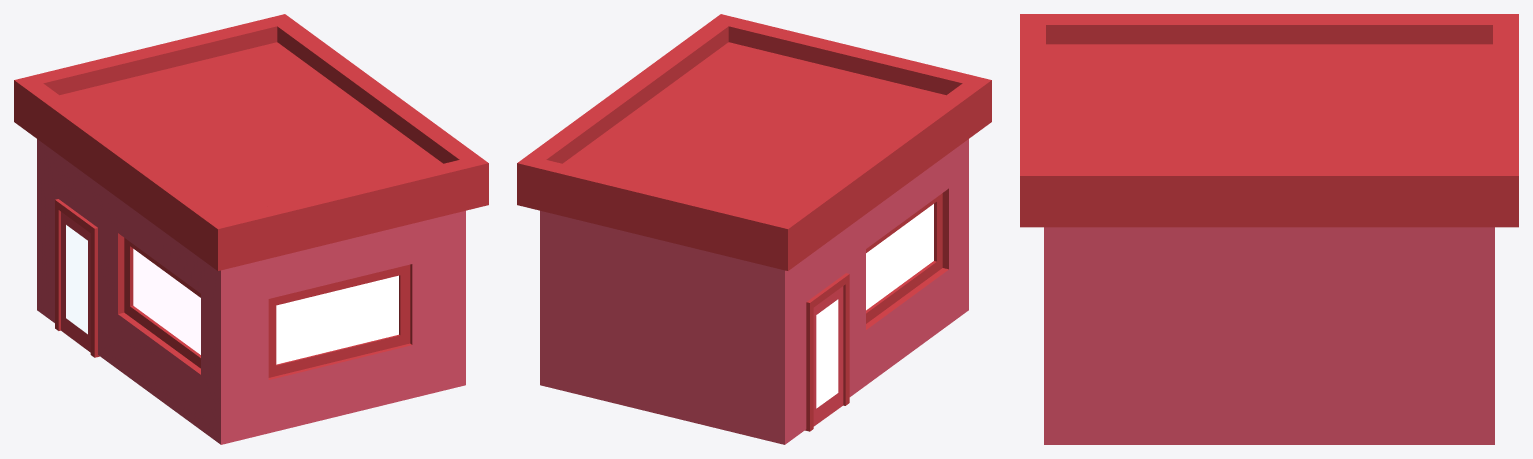
File: Small pink border building.fbx
The picture shows the model from 3 angles, left to right: view 1: azimuth 30°, elevation 25°; view 2: azimuth 150°, elevation 25°; view 3: azimuth 270°, elevation 25°; orthographic projection. The views are drawn at different scales.
Visible parts, largest first — view 1: Small pink border building; view 2: Small pink border building; view 3: Small pink border building.
Boxes of the visible parts, x1,y1,x2,y2 form: Small pink border building: (14,14,488,444); Small pink border building: (517,14,991,444); Small pink border building: (1020,14,1518,444).
Size of the model in its own units: 909 by 731 by 1184.
